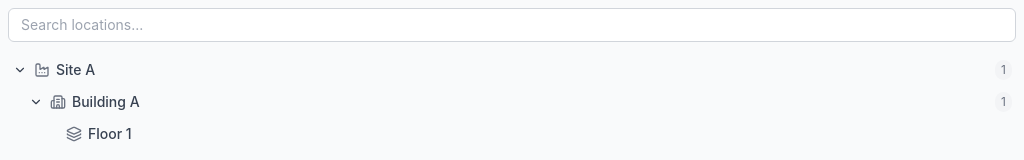
it: LocationTree › shows no match message for unmatched search
In the search field with placeholder "Search locations...": (512, 25) [8,8,1016,42], type "xyz-nonexistent"
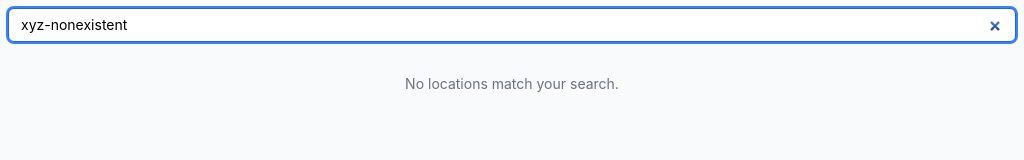
Result: the text "No locations match your search." is shown at [405,75,619,92]
